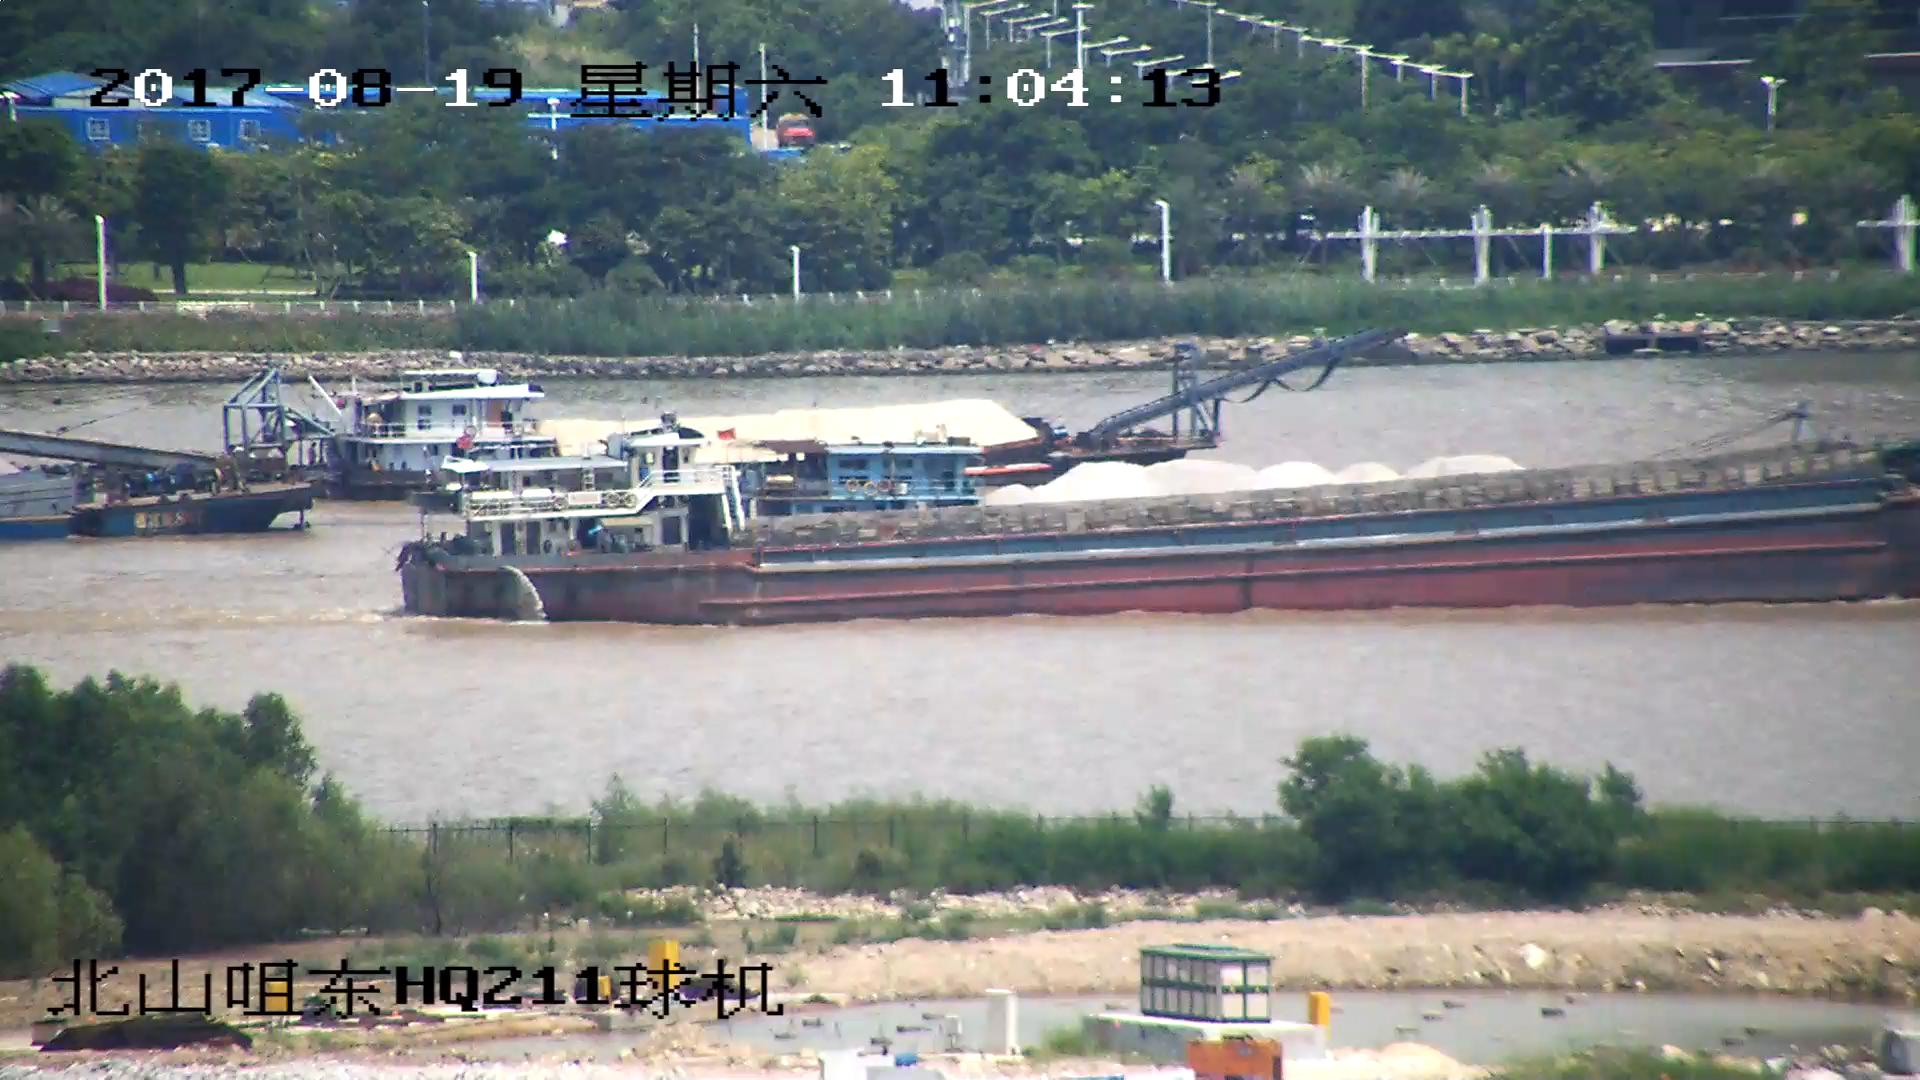bulk cargo carrier: (400, 454, 1920, 624)
ore carrier: (281, 330, 1400, 506)
